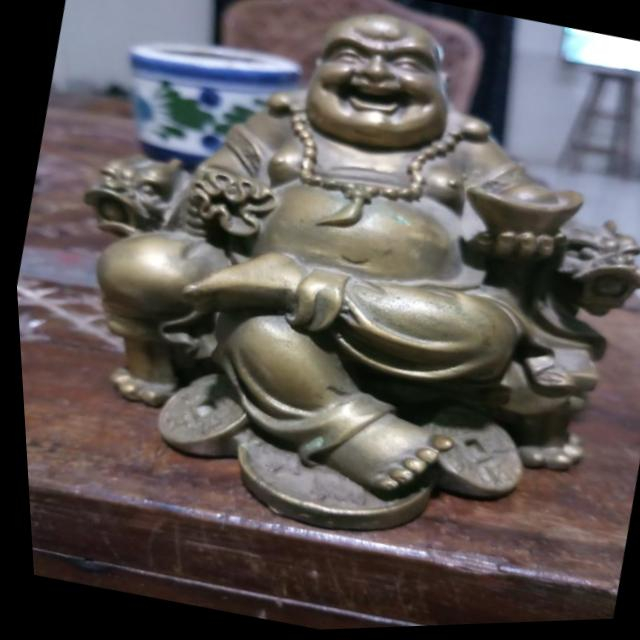Smiling Buddha: (140, 0, 562, 468)
